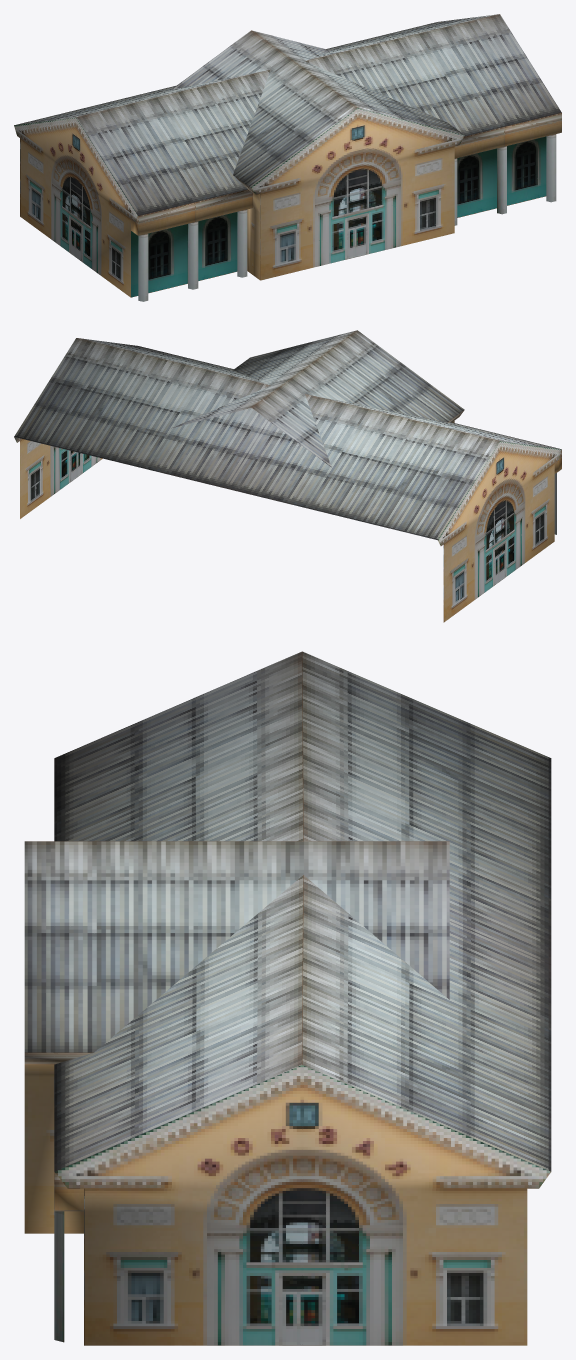
Rendered from Vkzl.fbx.
The picture shows the model from 3 angles, top to bottom: view 1: azimuth 30°, elevation 25°; view 2: azimuth 150°, elevation 25°; view 3: azimuth 270°, elevation 25°; orthographic projection. The views are drawn at different scales.
Visible parts, largest first — view 1: Vkzl; view 2: Vkzl; view 3: Vkzl.
Boxes of the visible parts, left/top/right/bottom form: Vkzl: left=14, top=14, right=561, bottom=301; Vkzl: left=14, top=330, right=561, bottom=622; Vkzl: left=24, top=651, right=551, bottom=1345.
Bounding box in the file's own units: 2655 × 891 × 1430.
1 material, 1 textured.
